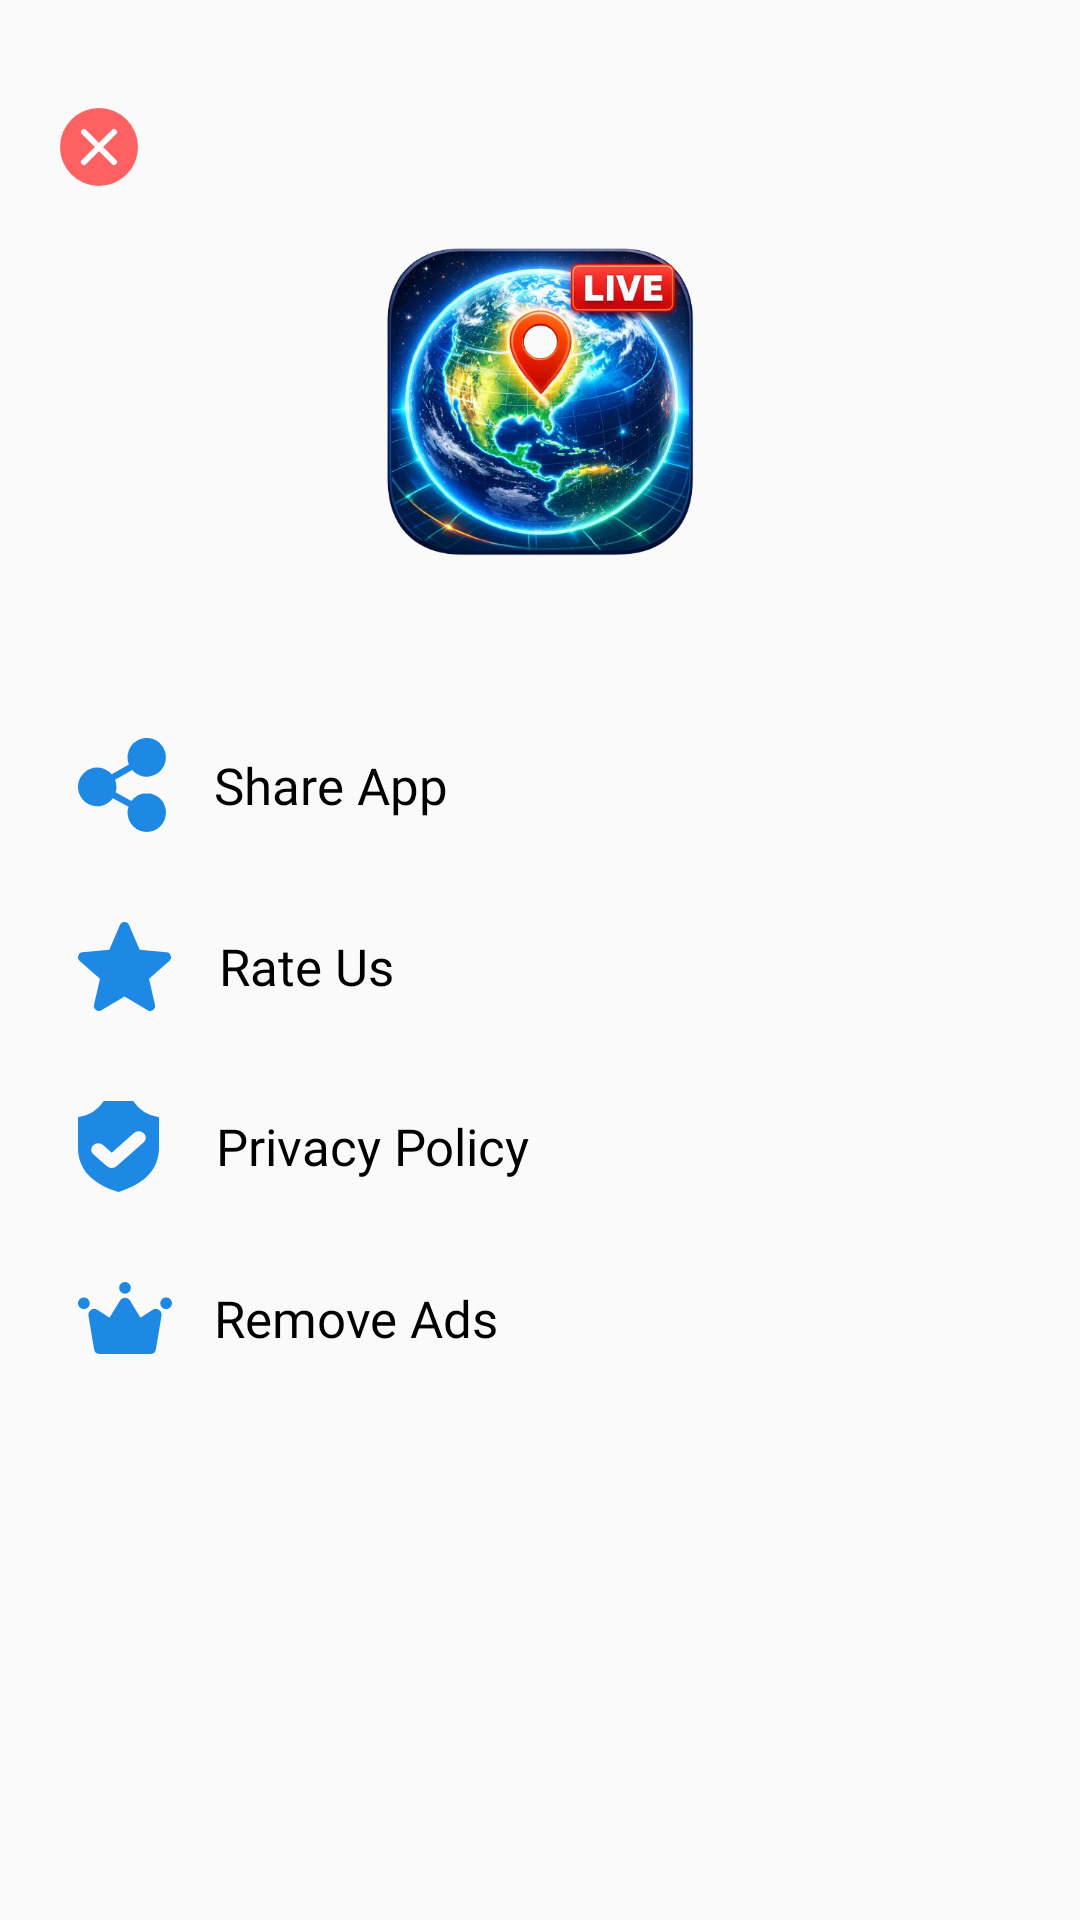

Screen size 1080px×1920px. Icon name, then its box in pixels as (x1, y1, x2, y2):
appicon: (387, 248, 693, 555)
cancel: (60, 108, 138, 186)
